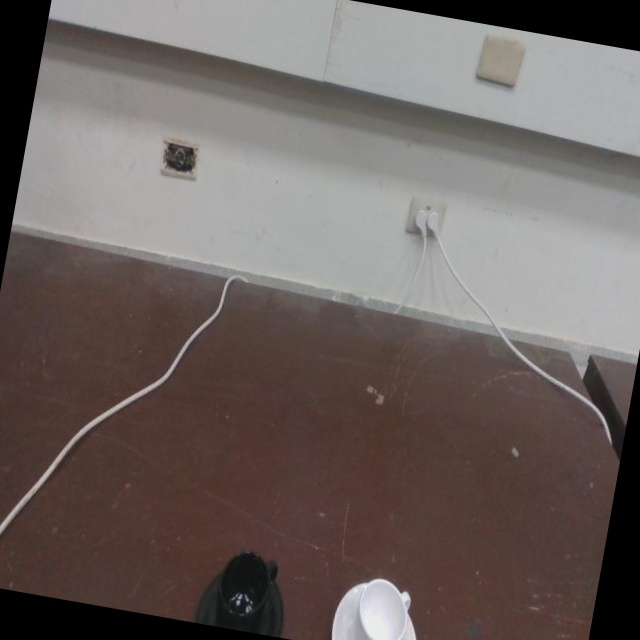black: (198, 549, 291, 631)
white: (332, 575, 427, 640)
